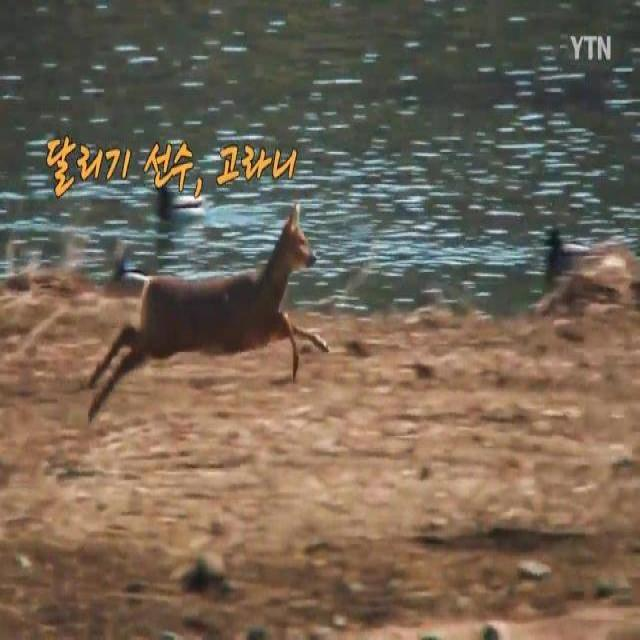deer: (85, 201, 333, 426)
